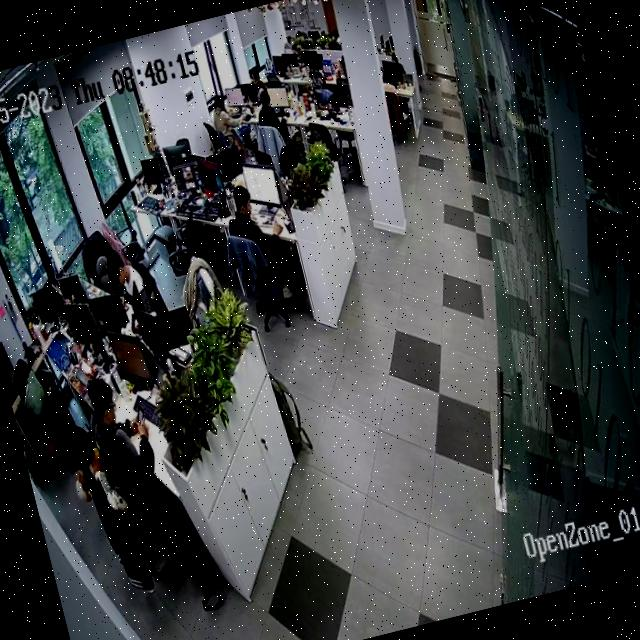person: (80, 362, 224, 613), (219, 176, 306, 311), (103, 247, 165, 323), (207, 93, 248, 162), (251, 85, 292, 150), (244, 65, 272, 110)
